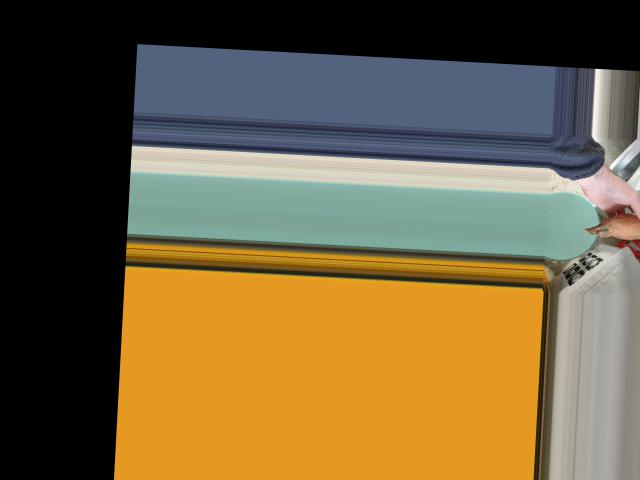sweet_potato: (586, 203, 640, 241)
